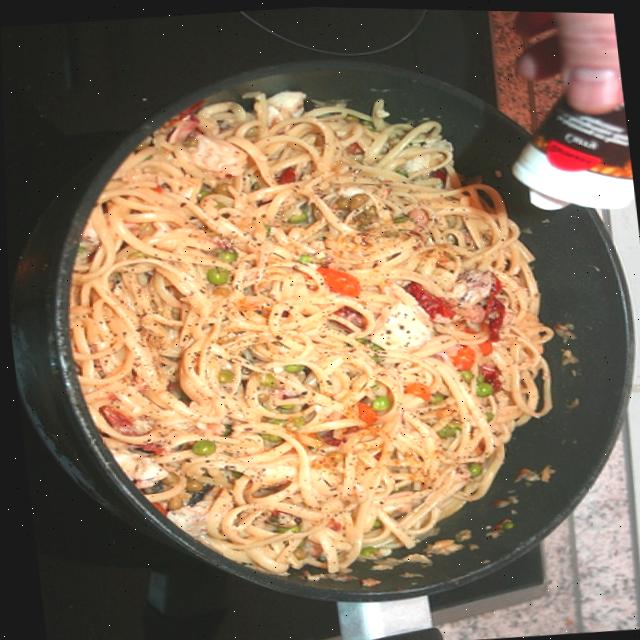面条主食: (0, 4, 640, 640)
